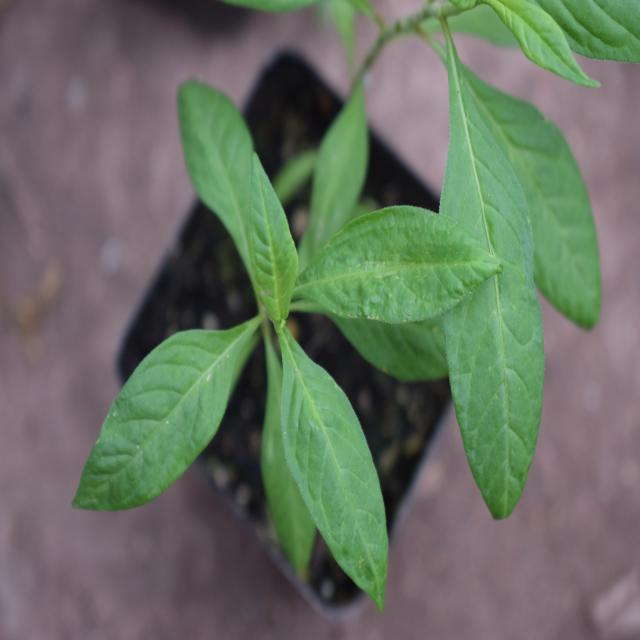white_smart_weed: (97, 105, 481, 601)
